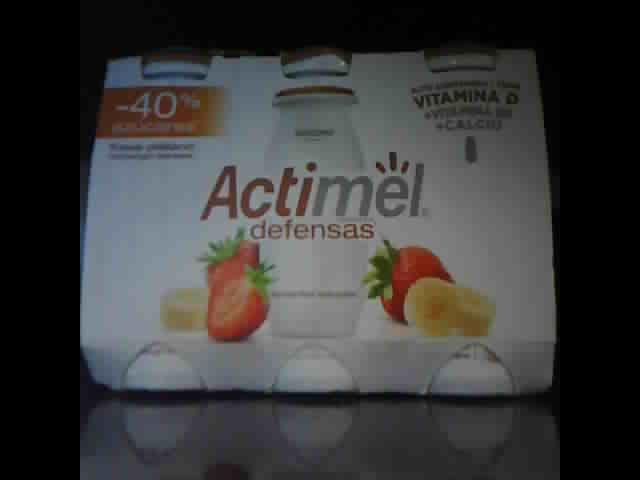actimel: (82, 45, 556, 396)
